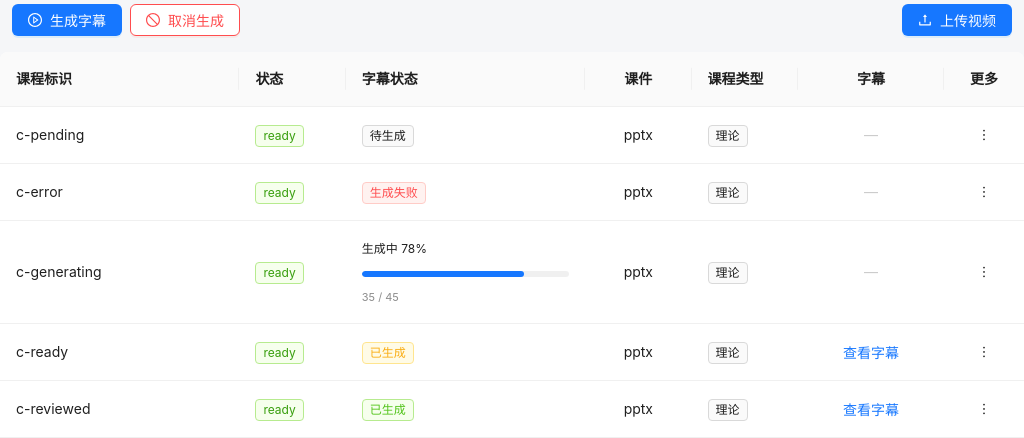
it: 专栏视频批量操作（PRD v8 §5.5A.5） › 批量操作部分失败时保留失败项和当前模式以便重试
Expected: the text "c-pending" is shown, [0,107,239,164]
What coordinates should you click on to do the following:
click the button "生成字幕"
I would click on:
 (67, 20)
Its box is [12,4,122,36].
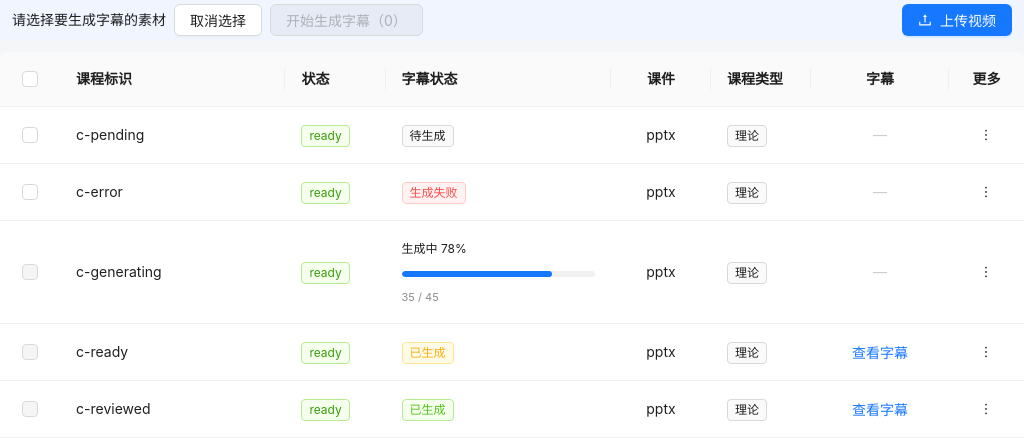
What coordinates should you click on to do the following:
click the checkbox named "Select all"
I would click on:
 (30, 79)
Its box is [22,68,38,90].
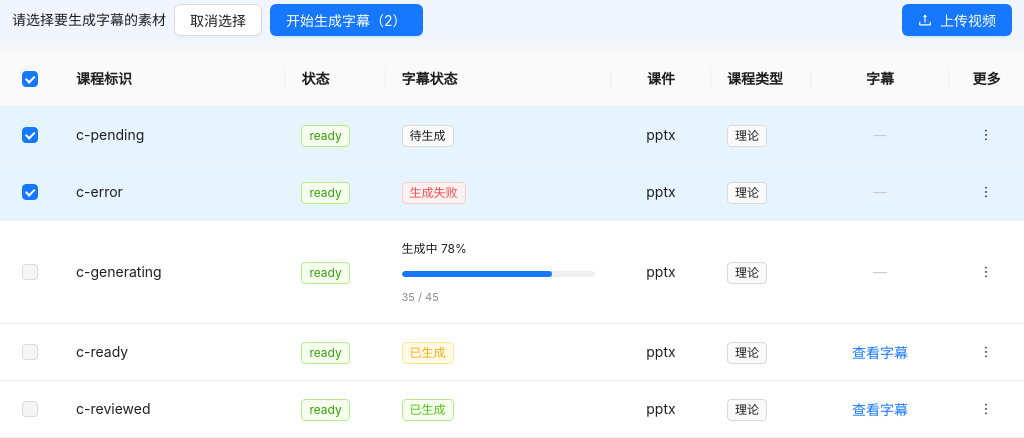
What coordinates should you click on to do the following:
click the button "开始生成字幕（2）"
I would click on:
 (346, 20)
Its box is [270,4,422,36].
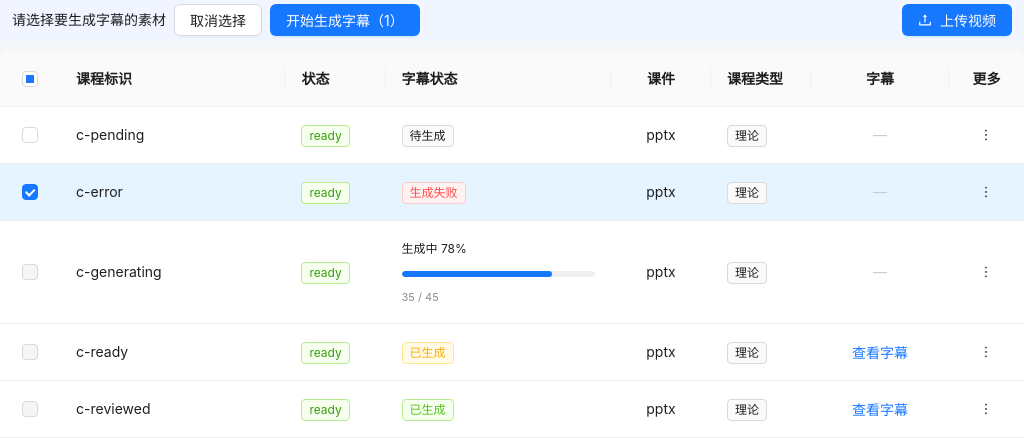
Expected: the button "开始生成字幕（1）" is enabled, [270,4,420,36]
Expected: the text "请选择要生成字幕的素材" is shown, [12,11,166,28]
Expected: the checkbox next to "c-pending" is not checked, [22,124,38,146]
